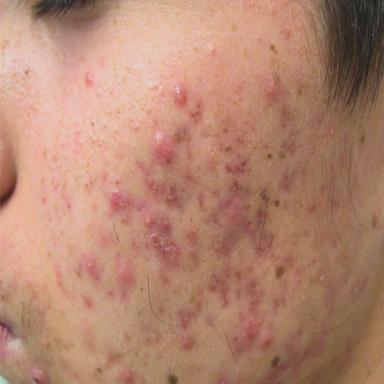acne: (152, 131, 173, 162), (115, 259, 134, 286), (262, 75, 279, 99), (83, 255, 98, 279), (29, 366, 49, 383), (258, 327, 273, 349), (109, 187, 123, 210), (173, 84, 187, 106), (157, 213, 171, 233), (245, 320, 258, 341), (181, 331, 194, 348), (120, 368, 133, 383), (143, 212, 155, 228), (186, 229, 198, 245), (85, 72, 95, 88), (232, 214, 239, 227), (181, 315, 187, 328)
